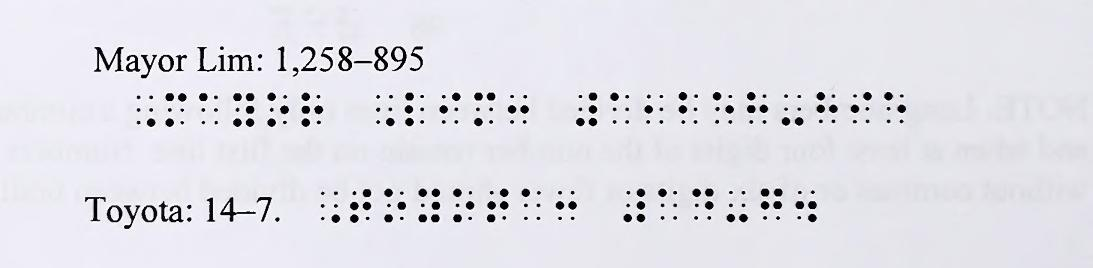1: (658, 188, 677, 221), (610, 92, 629, 124)
2: (678, 92, 698, 124)
4: (692, 188, 714, 220)
5: (884, 92, 906, 123), (713, 92, 734, 124)
7: (761, 188, 782, 220)
8: (747, 92, 768, 124), (817, 92, 837, 123)
9: (851, 92, 871, 124)
L: (405, 92, 425, 127)
M: (165, 93, 187, 127)
T: (350, 189, 371, 223)
a: (199, 93, 219, 125), (521, 188, 541, 220)
capital: (321, 191, 340, 223), (376, 95, 395, 126), (137, 95, 155, 127)
i: (439, 92, 461, 124)
m: (474, 92, 496, 127)
number: (623, 188, 645, 223), (576, 92, 597, 126)
o: (267, 92, 289, 127), (384, 188, 406, 223), (453, 188, 474, 223)
r: (301, 92, 323, 127)
t: (487, 188, 509, 223)
y: (233, 93, 255, 128), (418, 188, 440, 223)
